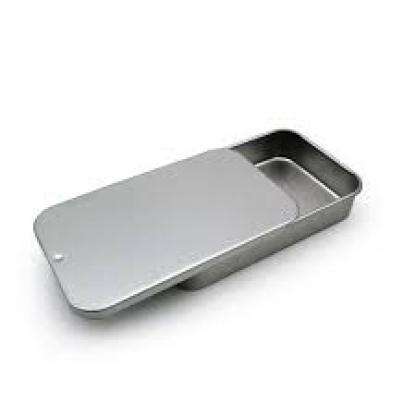METAL: (32, 146, 298, 314), (174, 126, 360, 290)
